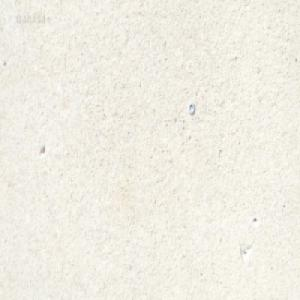Washer: (187, 101, 195, 116)
